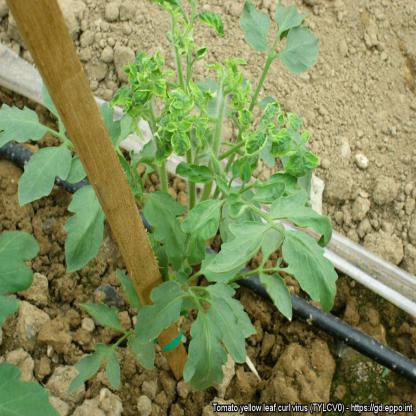Tomato leaf: (282, 229, 336, 318), (212, 209, 281, 270), (182, 307, 228, 392), (140, 185, 189, 264), (61, 183, 103, 270), (133, 280, 184, 347), (17, 140, 67, 207), (206, 296, 252, 363), (2, 95, 51, 152), (239, 1, 277, 62), (279, 25, 320, 77), (258, 269, 294, 320), (78, 297, 127, 332), (250, 179, 286, 206)
